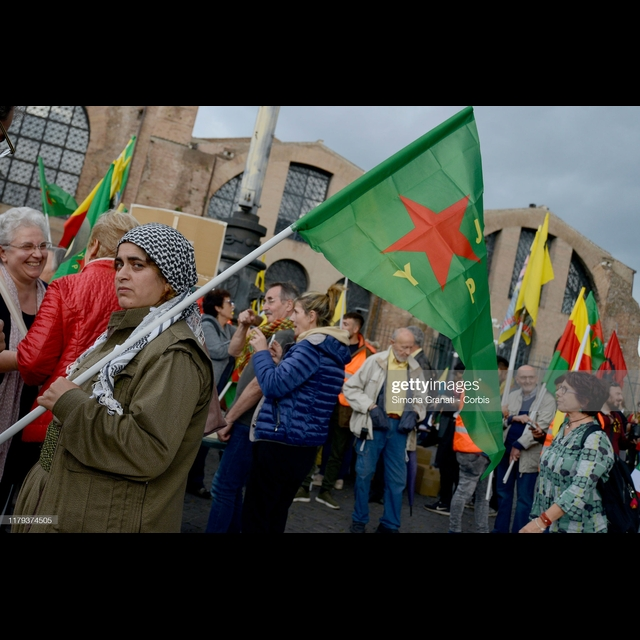YPJ: (381, 178, 484, 310)
